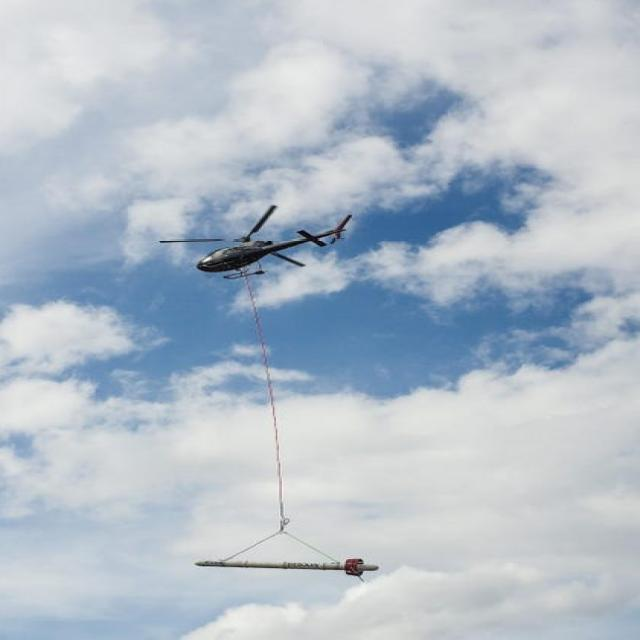helicopter: (157, 208, 387, 282)
